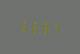eight: (38, 19, 47, 34)
five: (18, 18, 27, 33)
seven: (48, 20, 57, 34)
six: (28, 19, 37, 33)
